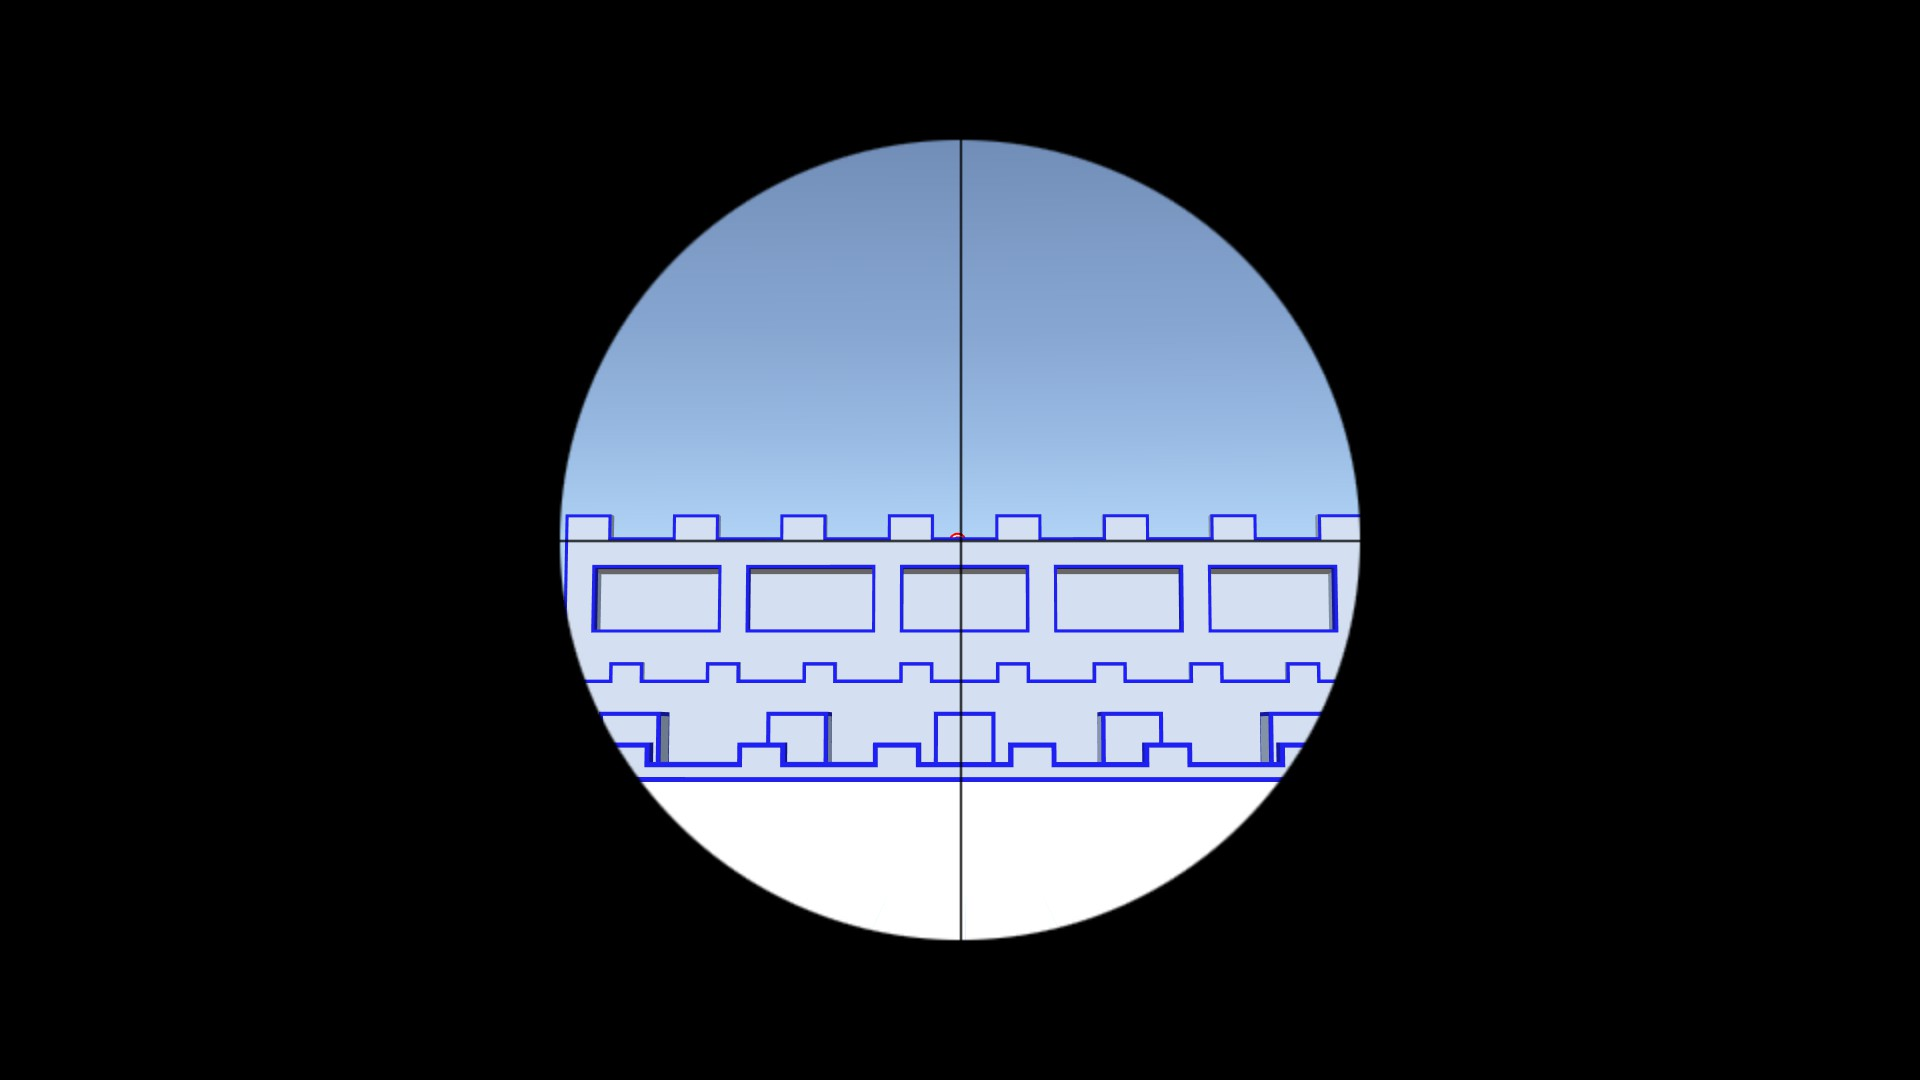target: (949, 531, 968, 541)
